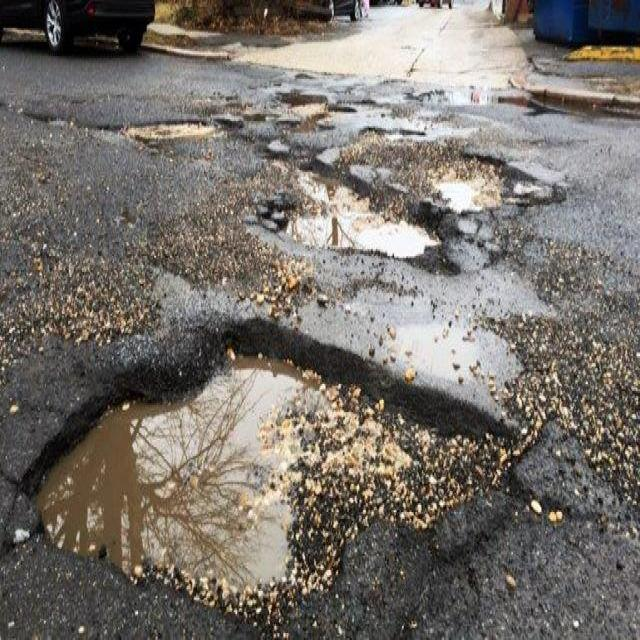lubang: (13, 314, 530, 640), (238, 150, 468, 284), (406, 126, 570, 222), (404, 516, 520, 640), (204, 81, 363, 145), (503, 65, 640, 136), (110, 102, 243, 152), (21, 92, 128, 144), (483, 217, 543, 283), (358, 107, 429, 148), (352, 85, 392, 114), (400, 83, 448, 104), (291, 68, 315, 81)
